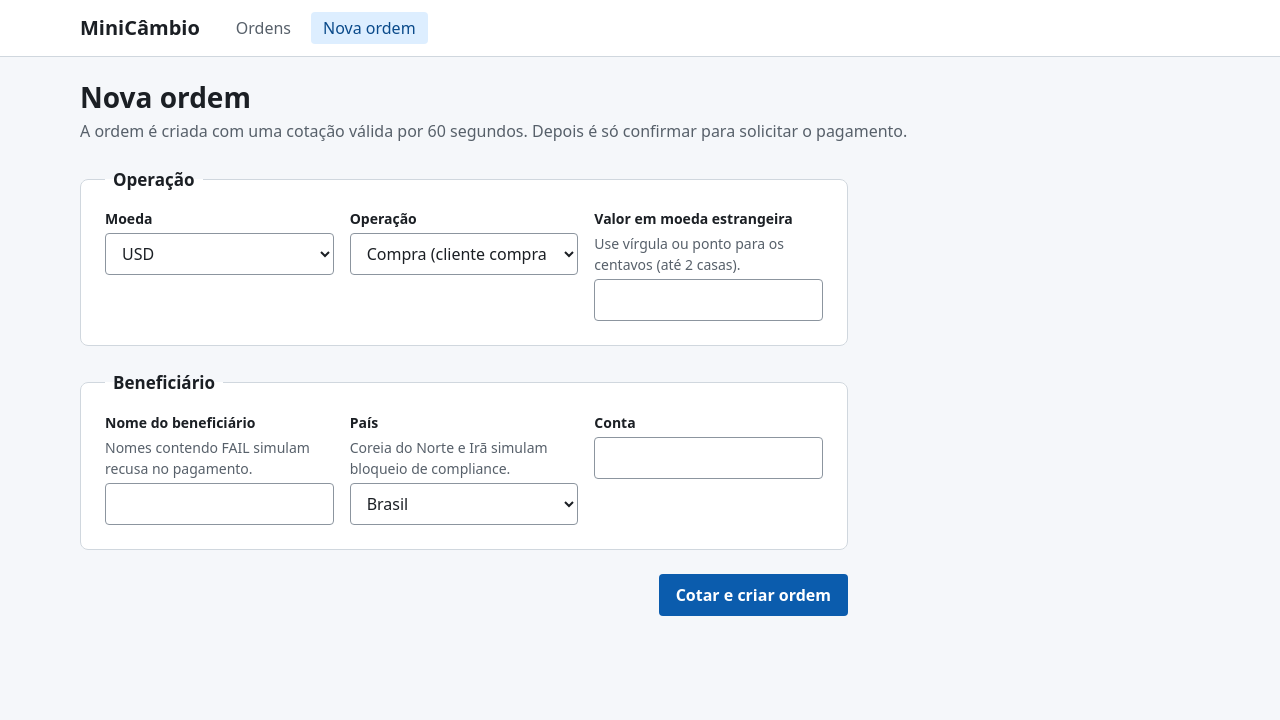
Test: CreateOrderPage › cria a ordem com os dados do formulário e navega para os detalhes
expect the heading "Nova ordem" is shown: met, box [80,78,251,116]
Select "EUR" in the dropdown labelled "Moeda": (219,254) [105,233,334,275]
Select "Venda (cliente vende a moeda estrangeira)" in the dropdown labelled "Operação": (464,254) [350,233,578,275]
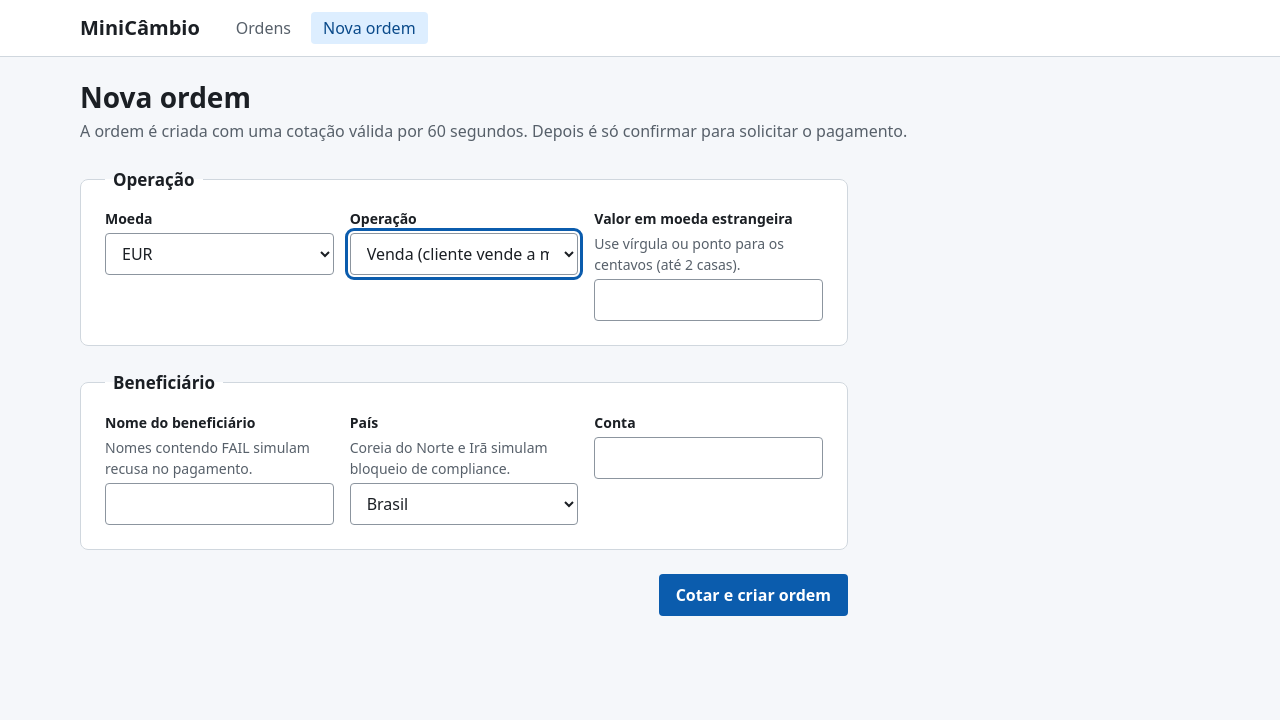
In the field labelled "Valor em moeda estrangeira": (709,300) [594,279,823,321], type "250,50"
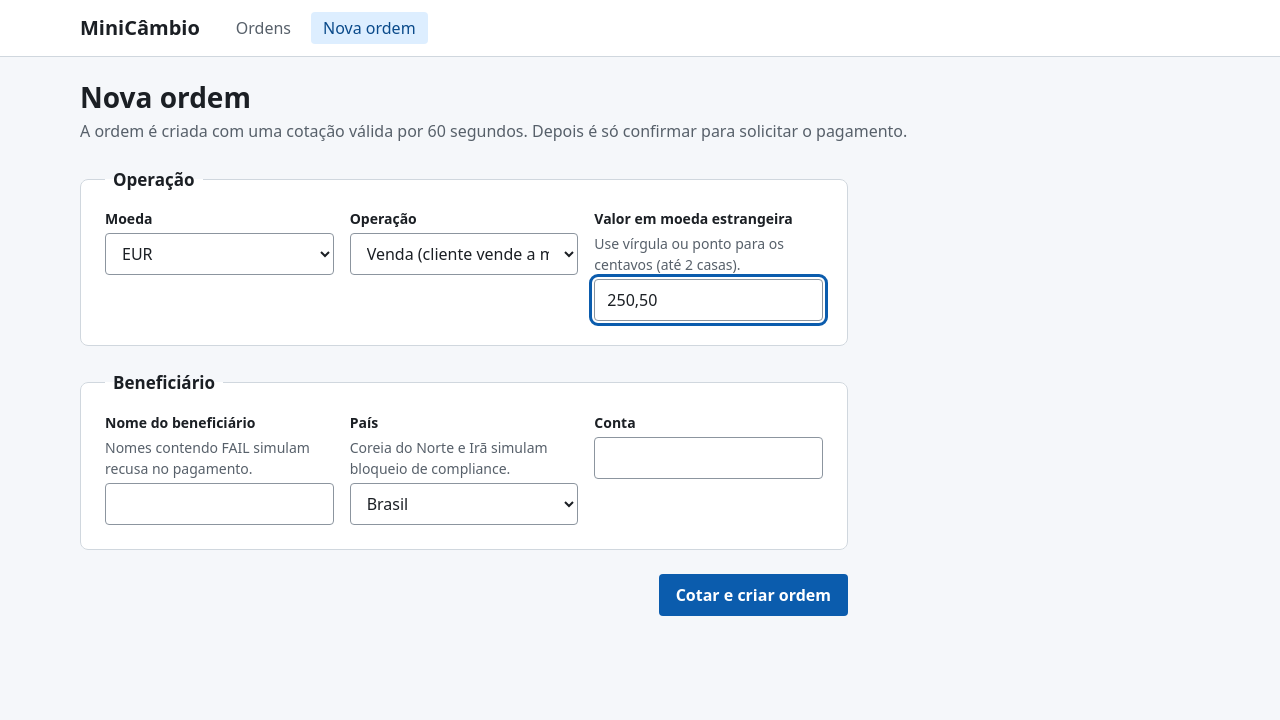
In the field labelled "Nome do beneficiário": (219,504) [105,483,334,525], type "Maria Silva"
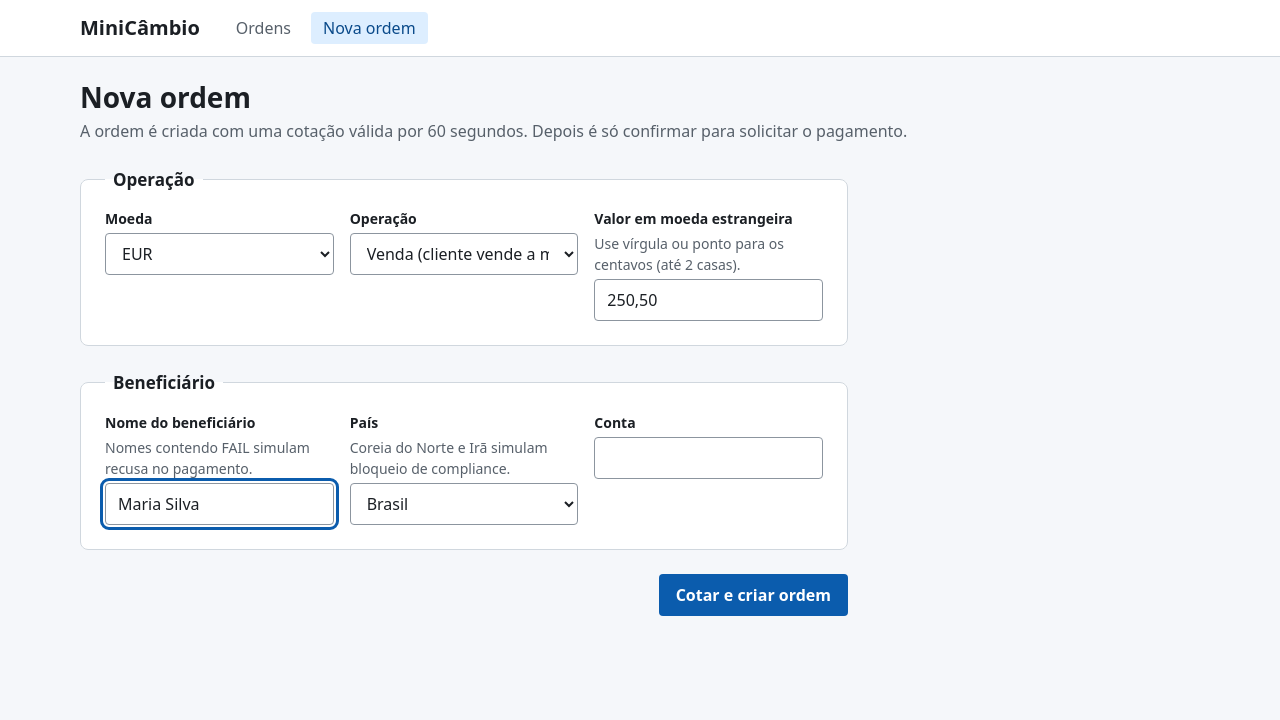
Select "Portugal" in the dropdown labelled "País": (464,504) [350,483,578,525]
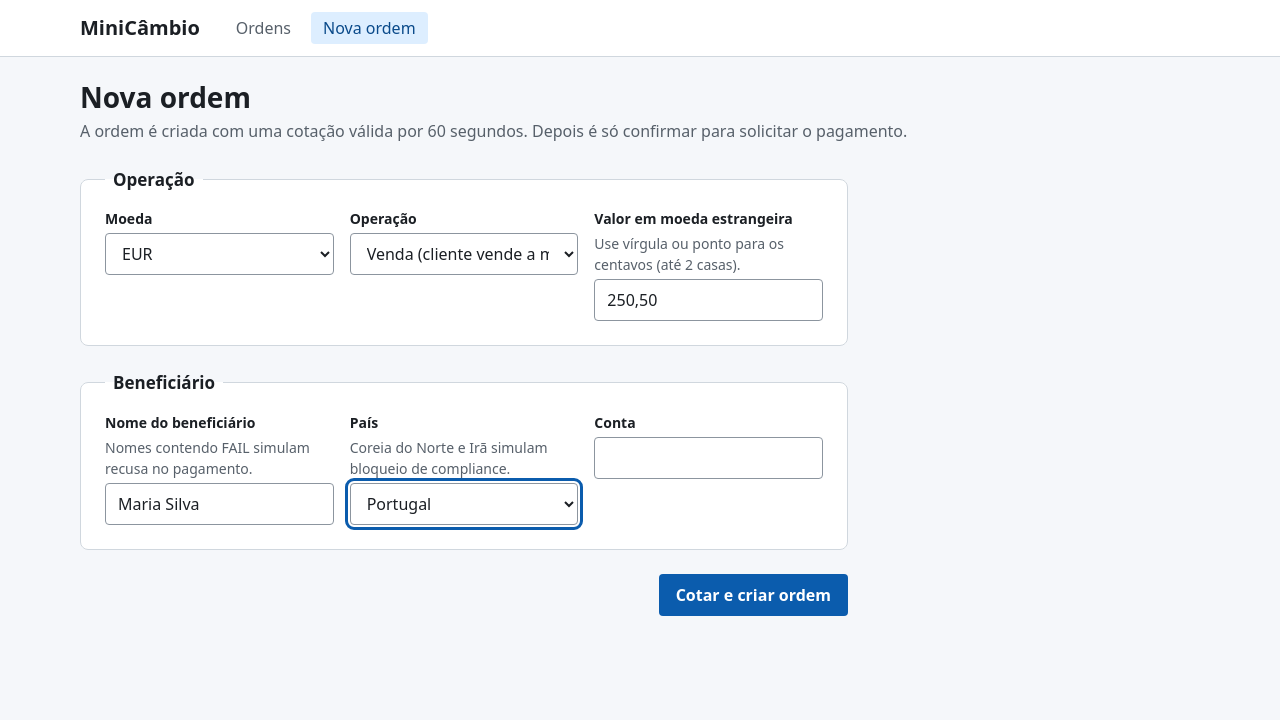
In the field labelled "Conta": (709,458) [594,437,823,479], type "PT50000201231234567890154"
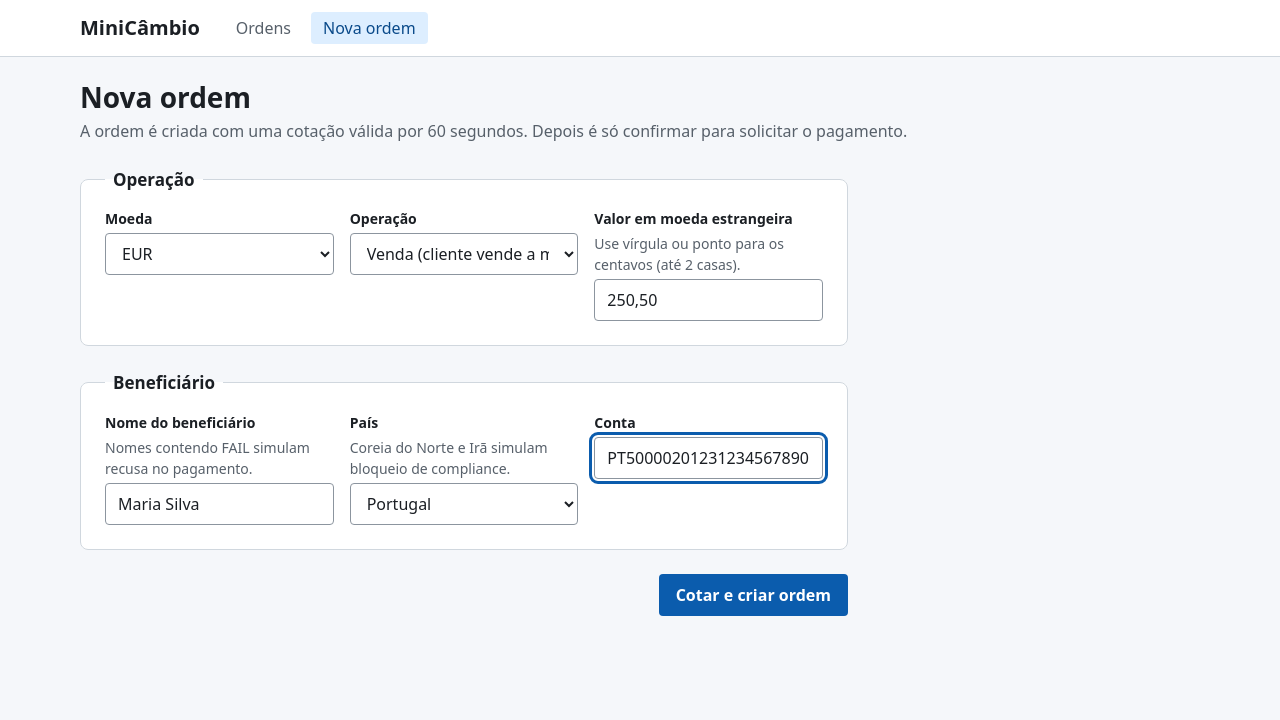
Click the button "Cotar e criar ordem": (753,595) [659,574,848,616]
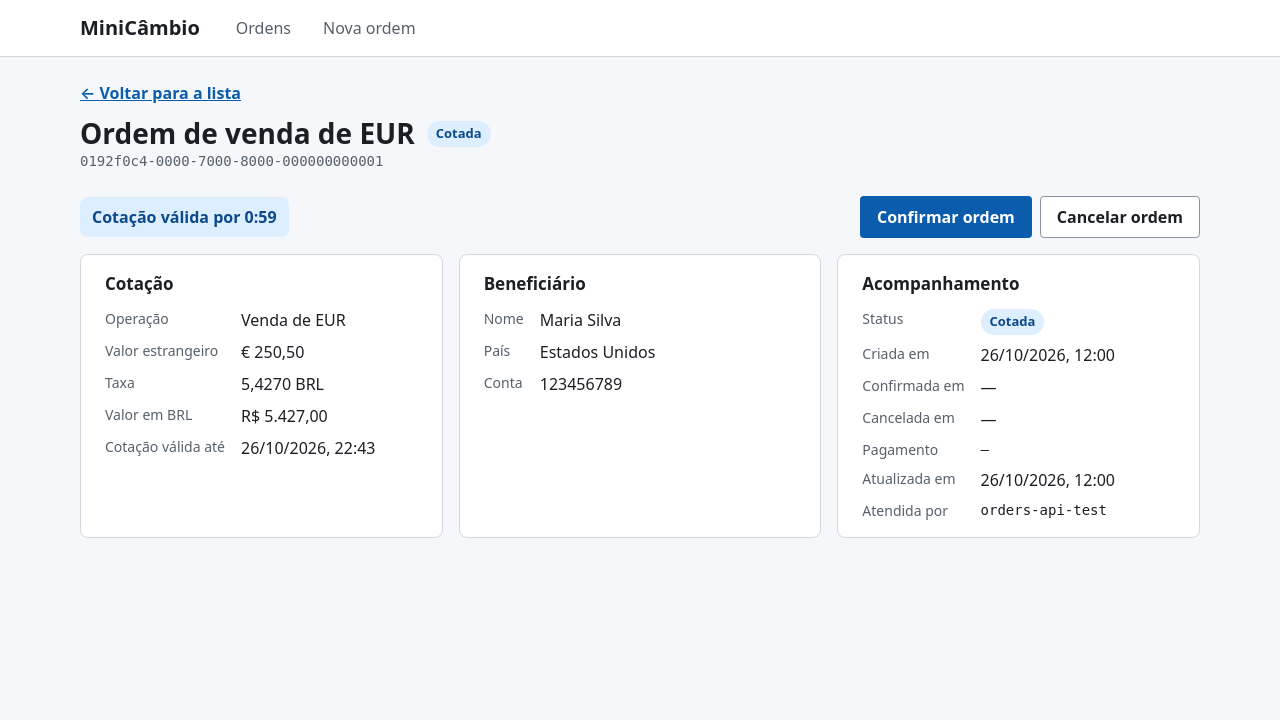
expect the heading "Ordem de venda de EUR" is shown: met, box [80,117,415,151]
